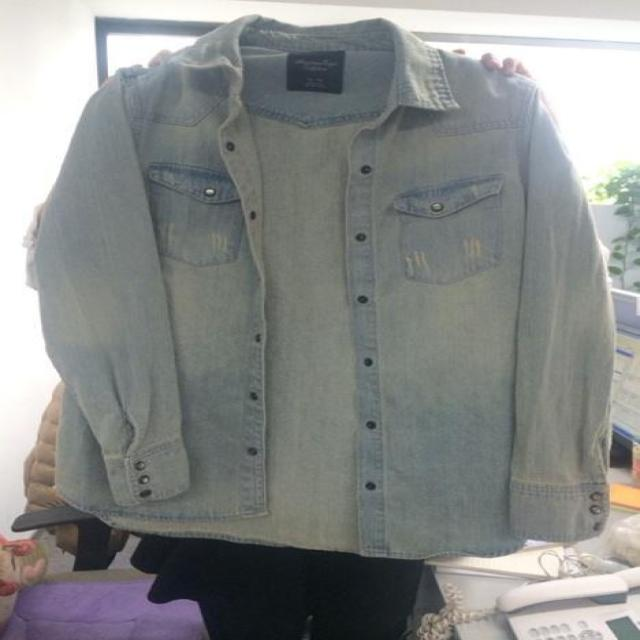long sleeve outwear: (36, 14, 615, 560)
skirt: (131, 512, 424, 618)
